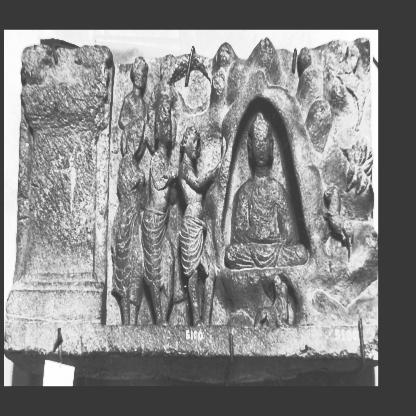buddha-sitting: (225, 112, 308, 268)
